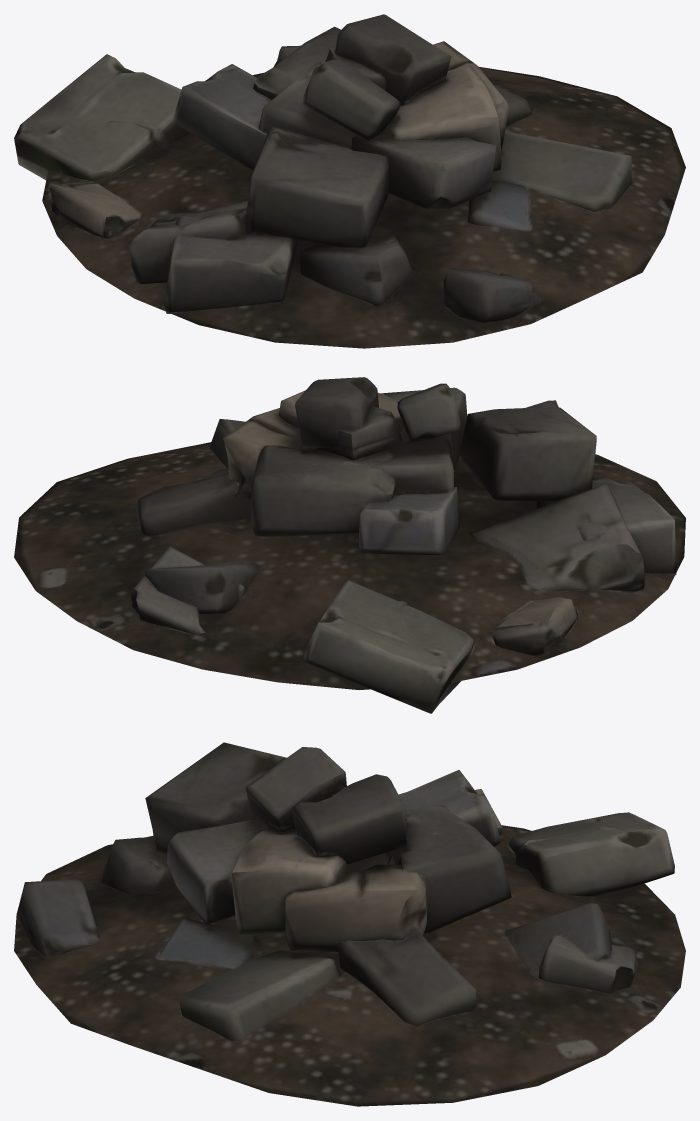
The model's file is rubble.glb.
3 views of the same model, one above another, from view 1: azimuth 30°, elevation 25°; view 2: azimuth 150°, elevation 25°; view 3: azimuth 270°, elevation 25° (orthographic). The views are drawn at different scales.
Visible parts, largest first — view 1: rubble; view 2: rubble; view 3: rubble.
Boxes of the visible parts, x1=… form: rubble: x1=14, y1=14, x2=685, y2=348; rubble: x1=14, y1=377, x2=685, y2=713; rubble: x1=14, y1=742, x2=685, y2=1106.
Size of the model in its own units: 1.76 by 0.57 by 1.7.
Materials: 1 (1 with a texture image).
